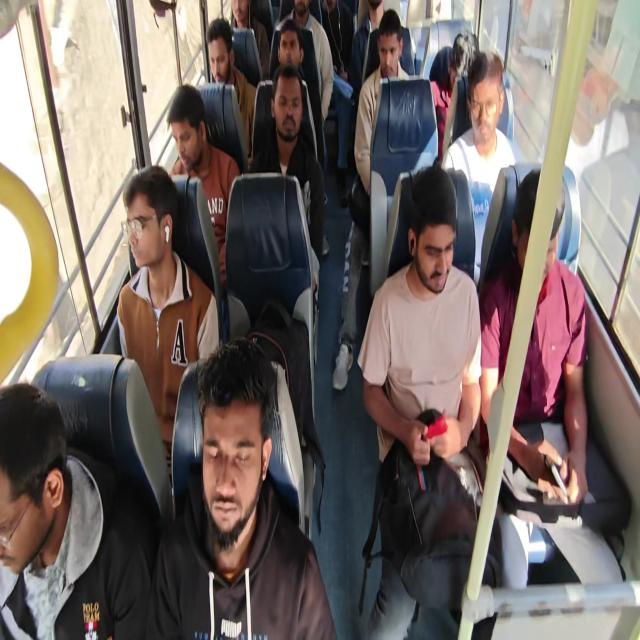person: (187, 328, 280, 532), (3, 383, 69, 576), (121, 165, 192, 304), (406, 180, 466, 294), (158, 81, 218, 180), (509, 192, 570, 273), (462, 50, 508, 146), (268, 66, 312, 166), (376, 14, 412, 83), (205, 22, 241, 87), (444, 28, 474, 82), (274, 18, 304, 66), (231, 1, 248, 26), (291, 0, 309, 19)
